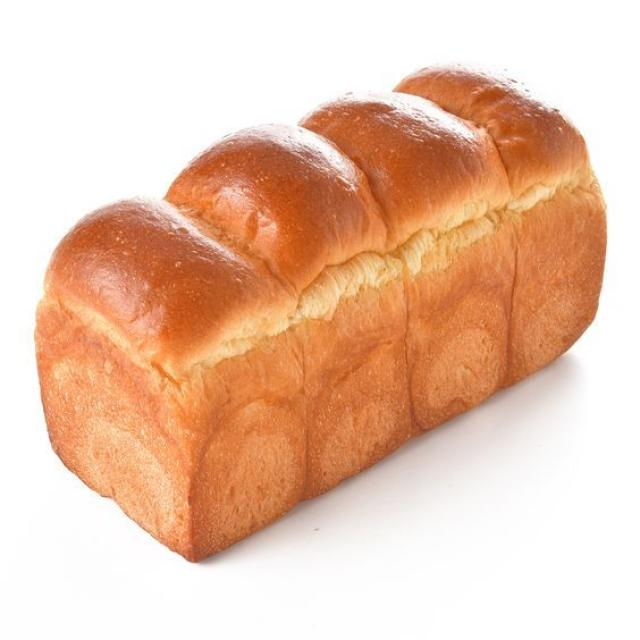bread: (37, 67, 605, 560)
